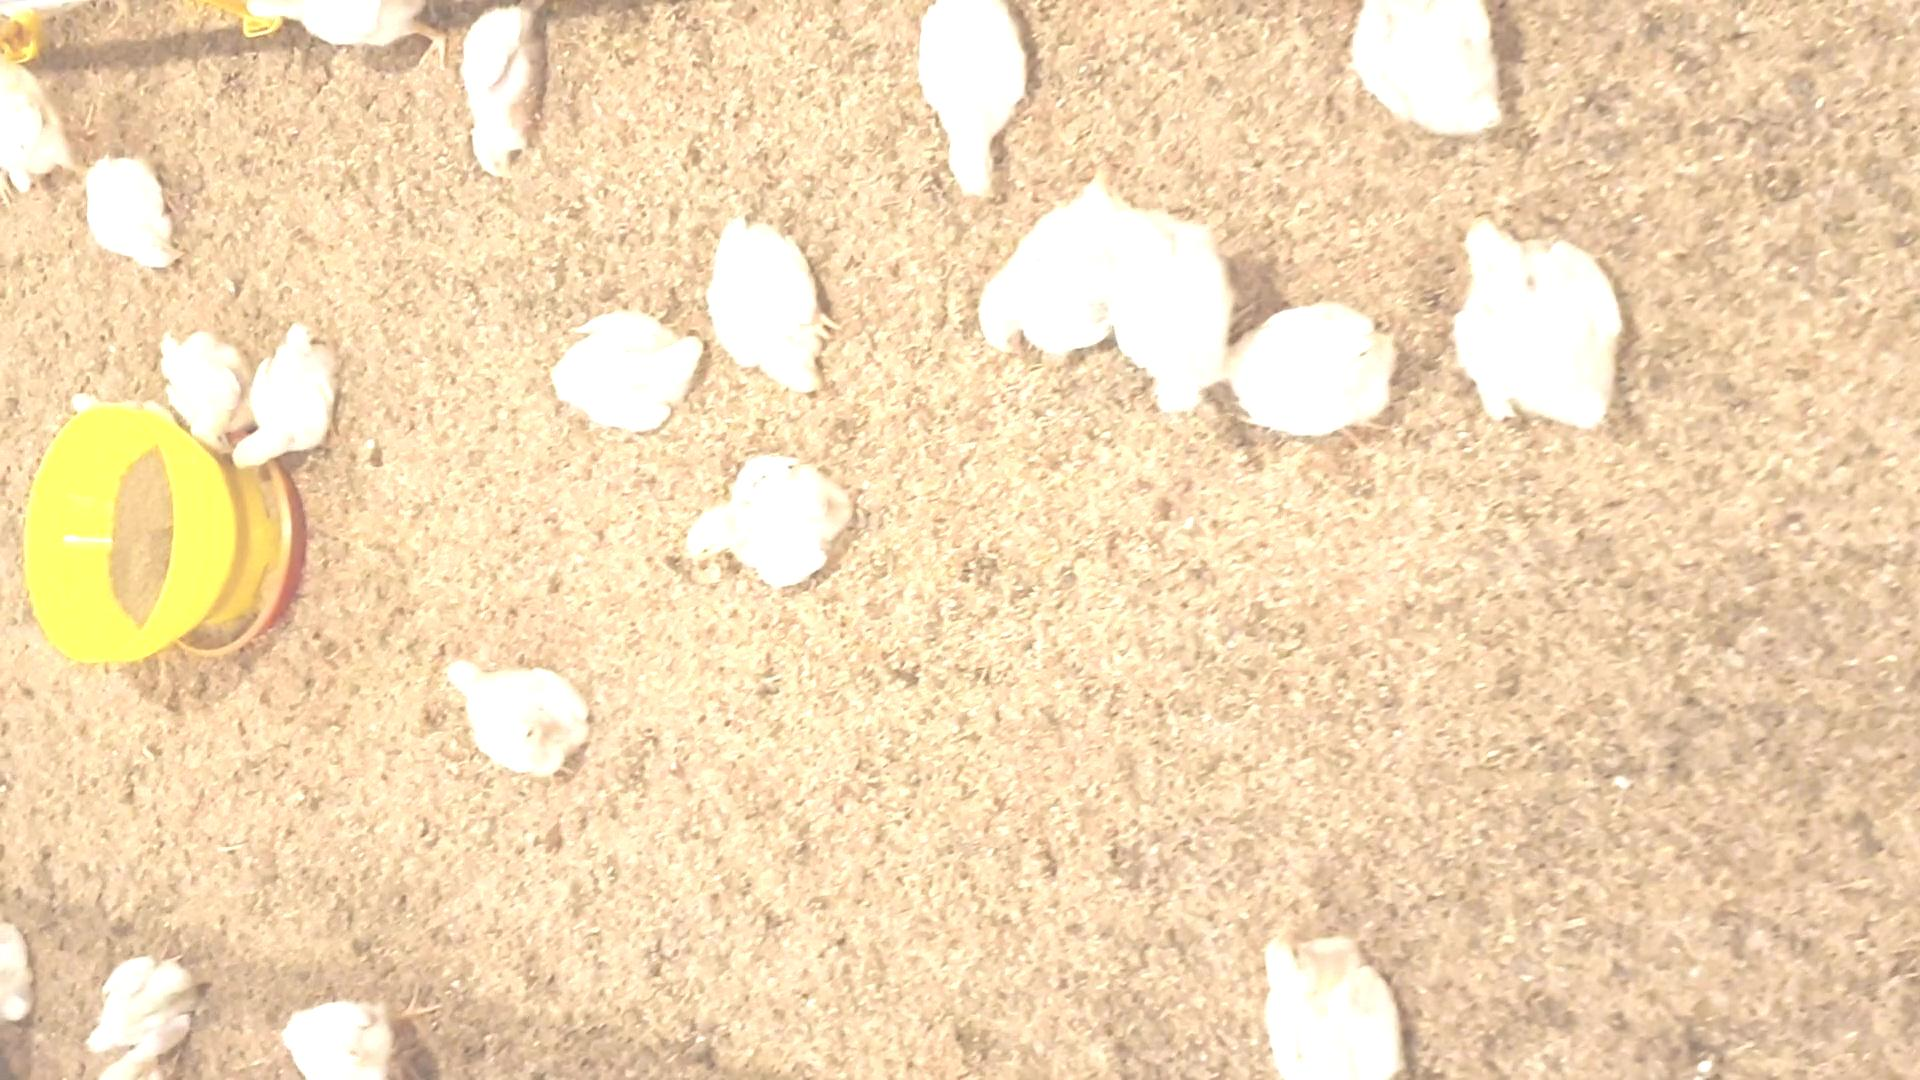Pollos: (1464, 214, 1619, 429), (1232, 290, 1403, 440), (707, 214, 835, 400), (682, 456, 860, 588), (913, 1, 1029, 200), (1262, 924, 1404, 1080), (1075, 160, 1233, 298), (553, 309, 703, 429), (455, 655, 593, 775), (463, 1, 551, 178), (240, 334, 345, 471), (982, 231, 1098, 355), (74, 161, 193, 272), (160, 334, 251, 450)
